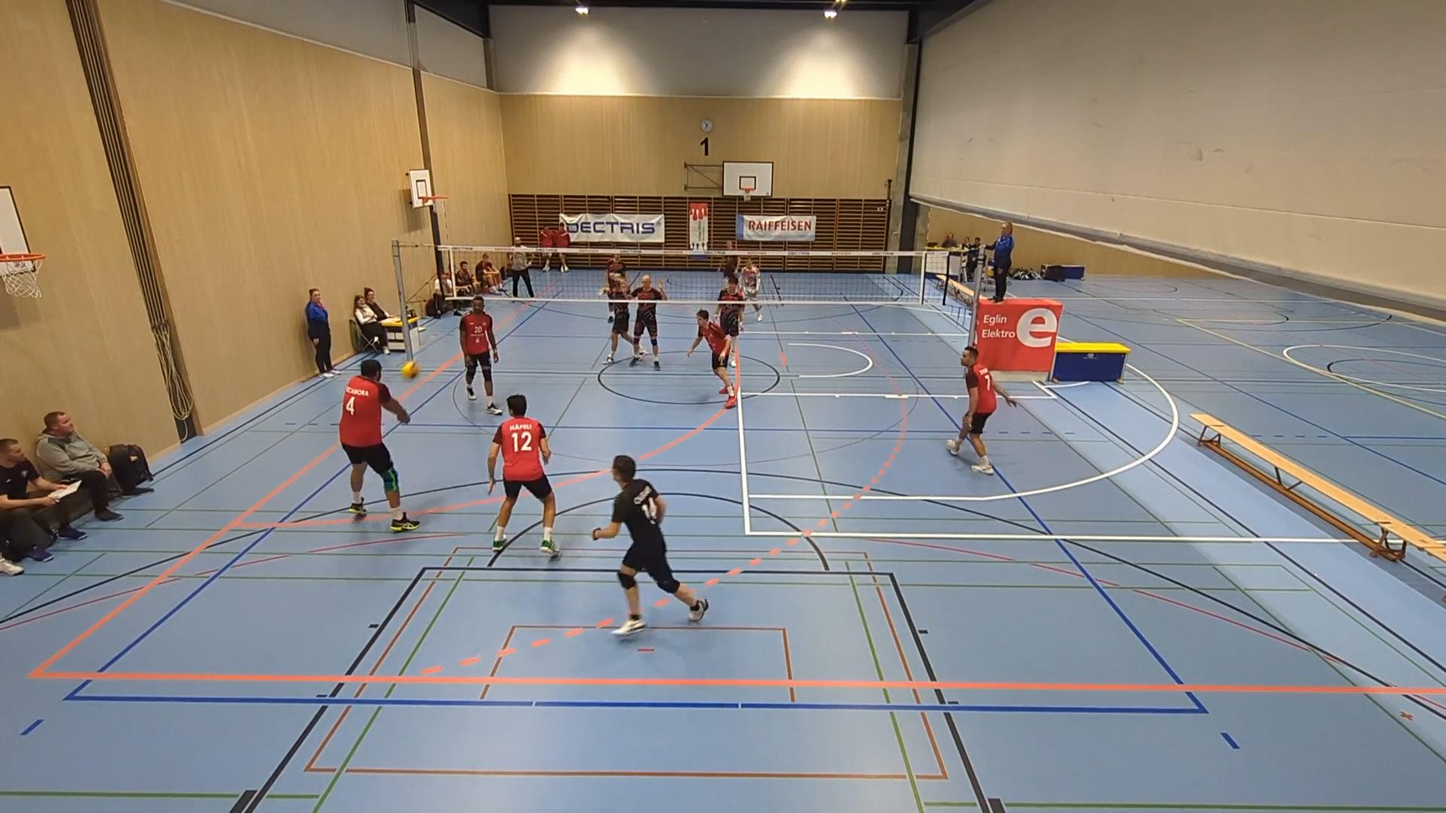ricezione: (333, 365, 419, 529)
